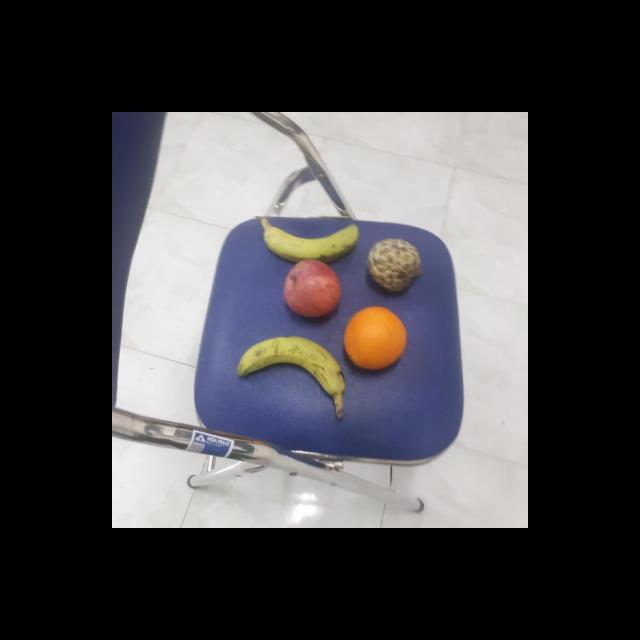Sakya fruit: (364, 236, 425, 294)
apple: (281, 257, 344, 320)
banana: (233, 332, 346, 399), (260, 220, 364, 262)
orange: (340, 306, 410, 372)
